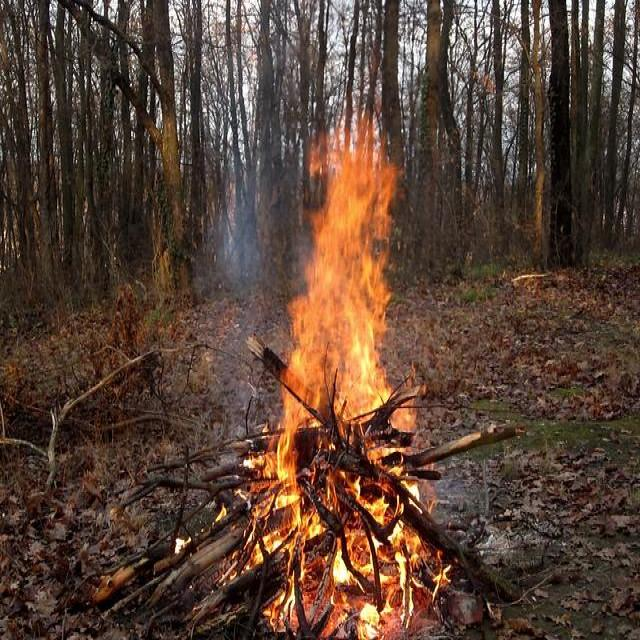fire: (273, 116, 414, 544)
